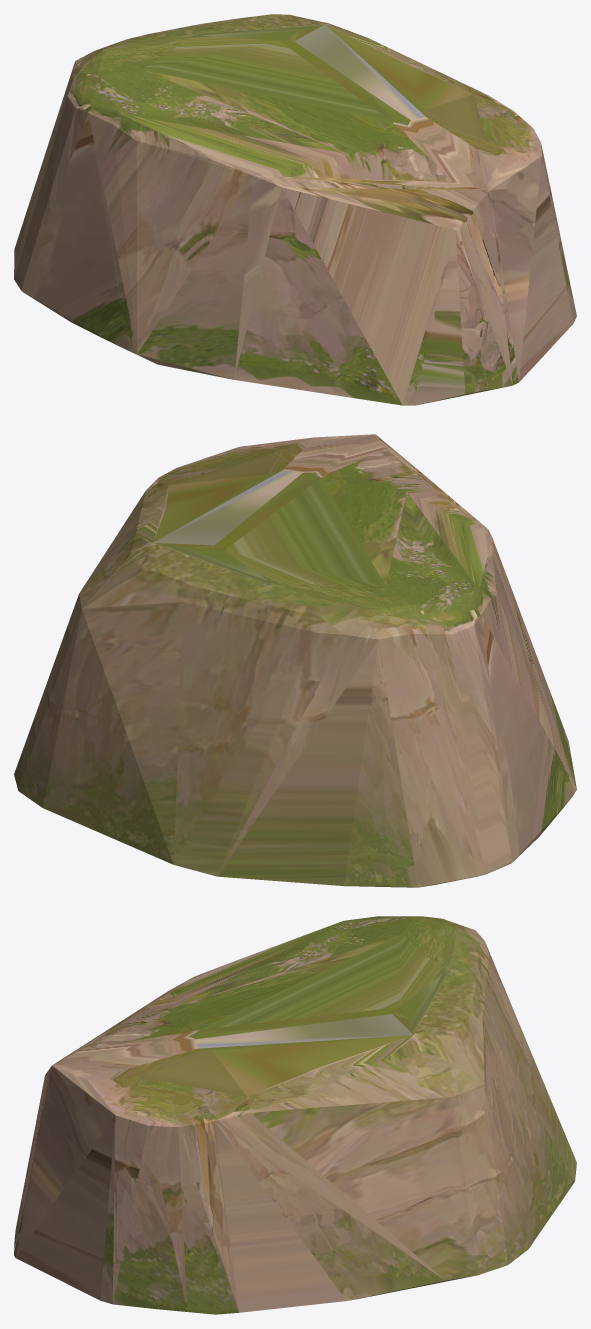
Rendered from Meseta_rocosa_pasto_closed.glb.
3 views of the same model, one above another, from view 1: azimuth 30°, elevation 25°; view 2: azimuth 150°, elevation 25°; view 3: azimuth 270°, elevation 25° (orthographic). The views are drawn at different scales.
Parts seen in each view (by area): view 1: tripo_node_6c2b1dcc-7138-4984-a9b2-f09bb34364c3; view 2: tripo_node_6c2b1dcc-7138-4984-a9b2-f09bb34364c3; view 3: tripo_node_6c2b1dcc-7138-4984-a9b2-f09bb34364c3.
Boxes of the visible parts, left/top/right/bottom form: tripo_node_6c2b1dcc-7138-4984-a9b2-f09bb34364c3: left=14, top=14, right=576, bottom=405; tripo_node_6c2b1dcc-7138-4984-a9b2-f09bb34364c3: left=14, top=434, right=576, bottom=887; tripo_node_6c2b1dcc-7138-4984-a9b2-f09bb34364c3: left=14, top=916, right=576, bottom=1314.
Size of the model in its own units: 0.9146 by 0.4546 by 0.9995.
1 material, 1 textured.
